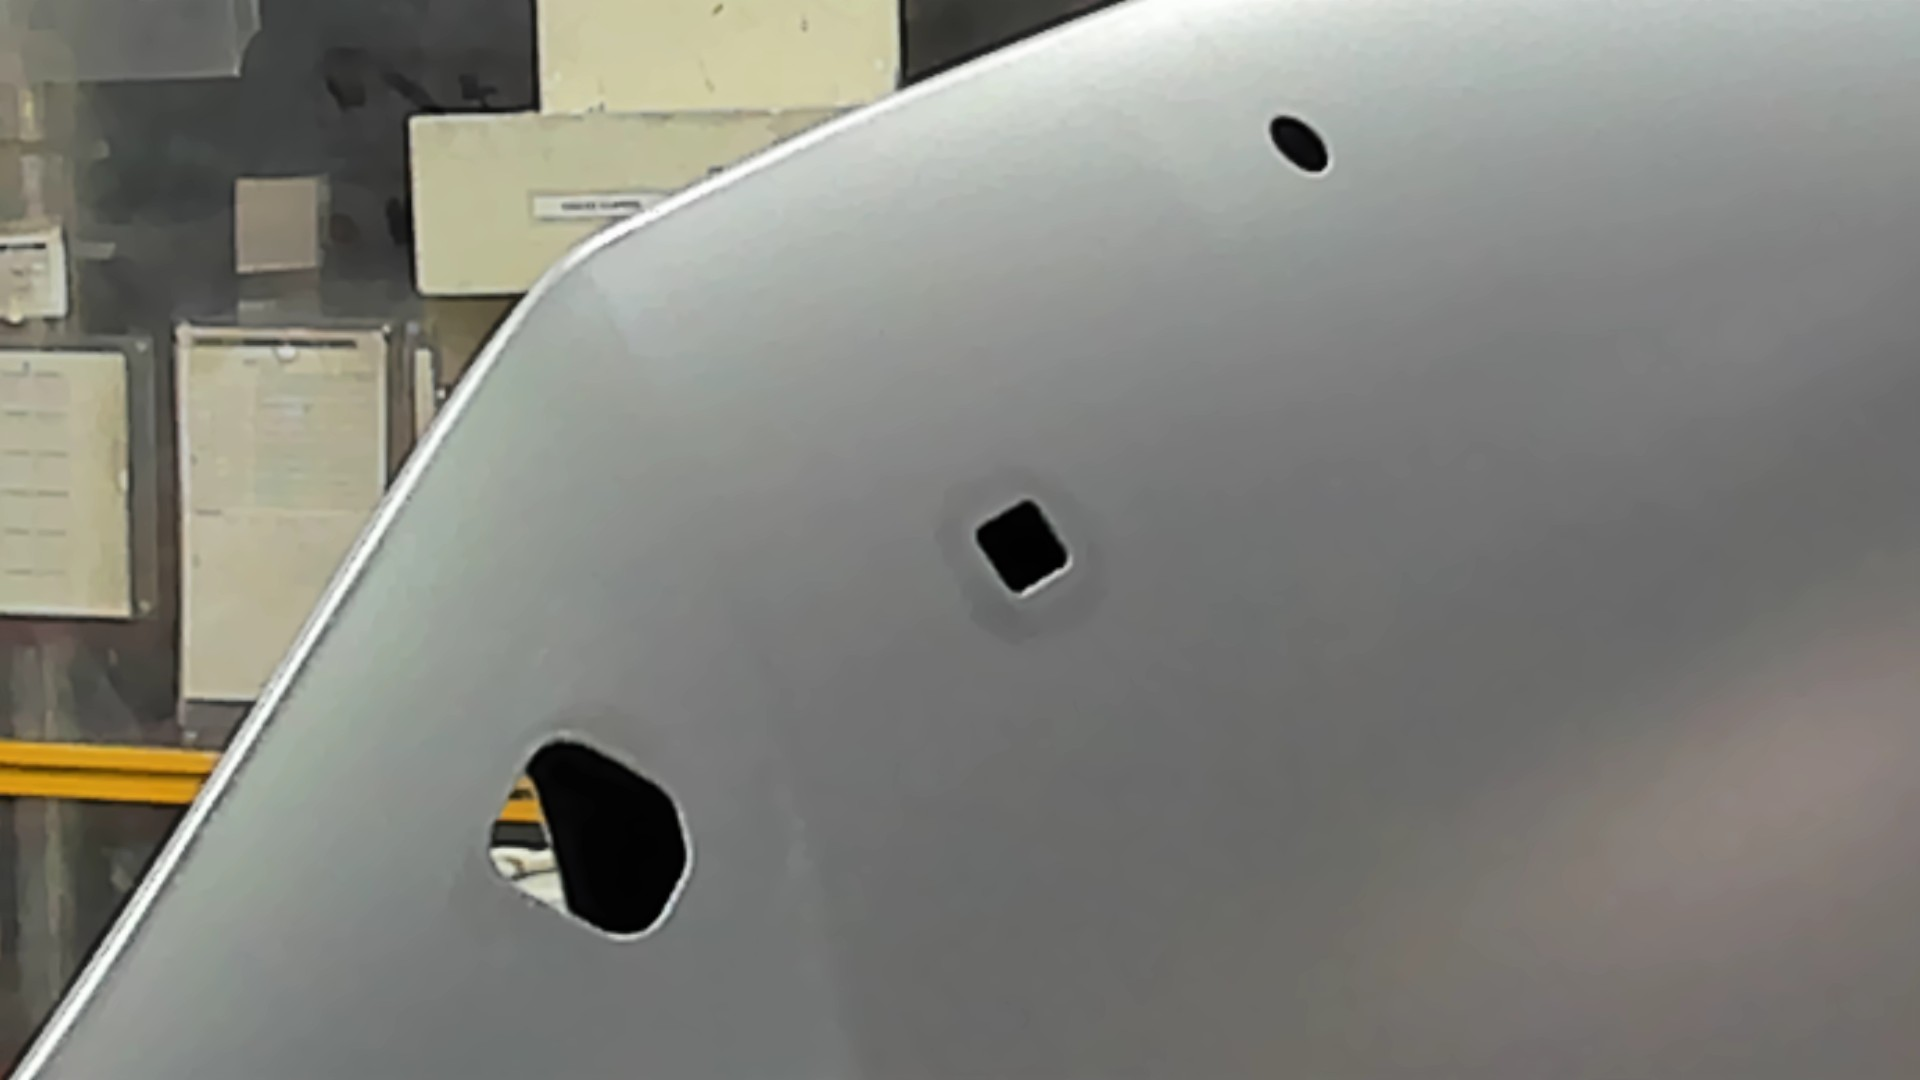chico: (1261, 111, 1333, 175)
grande: (480, 729, 702, 949)
mediano: (964, 491, 1077, 603)
